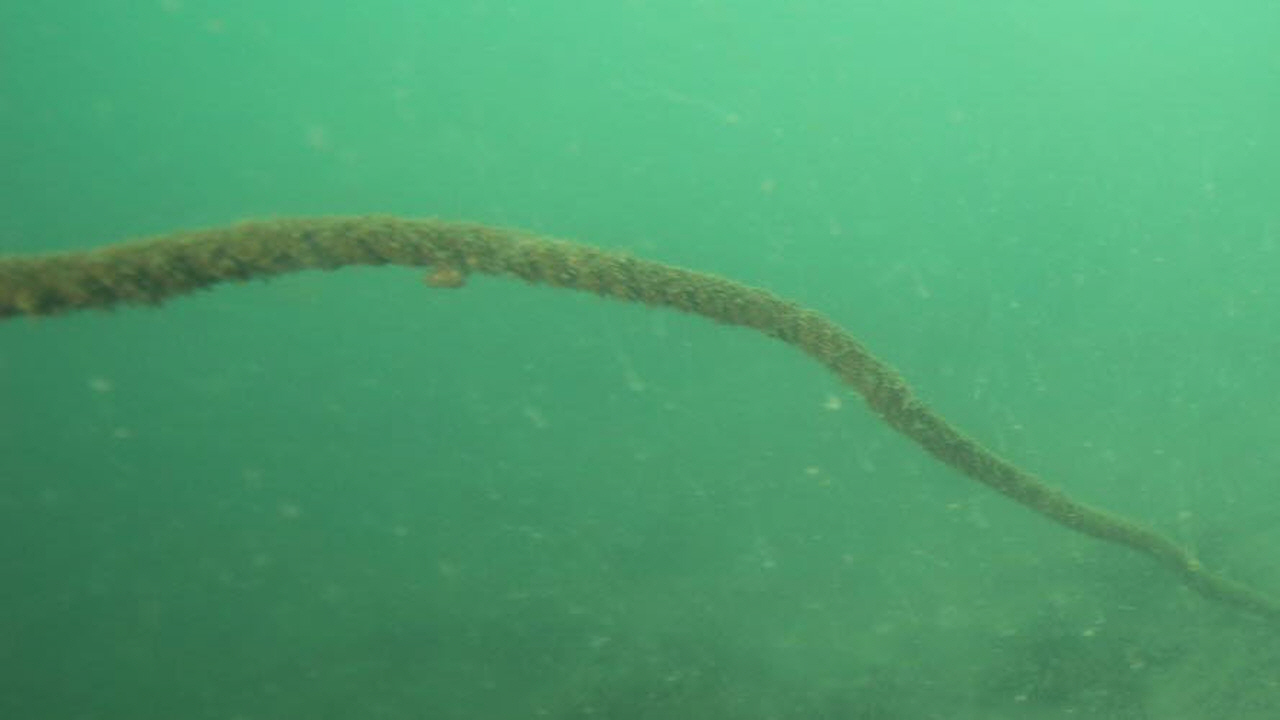rope: (0, 206, 1280, 632)
